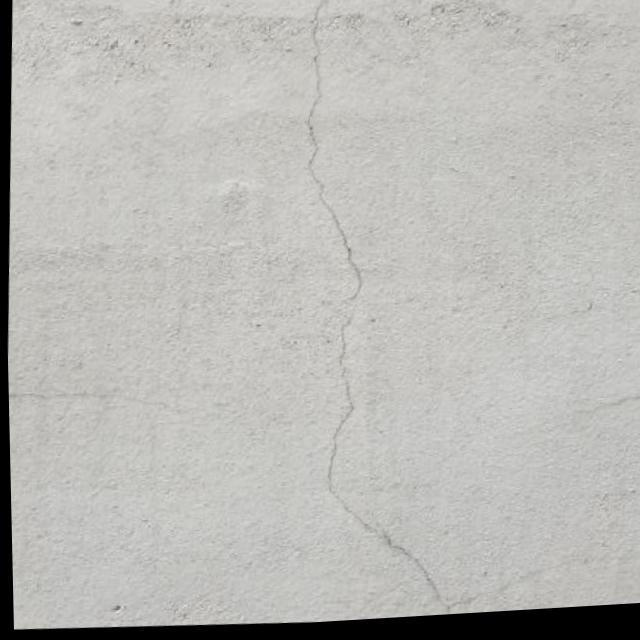Crack: (286, 4, 463, 610)
